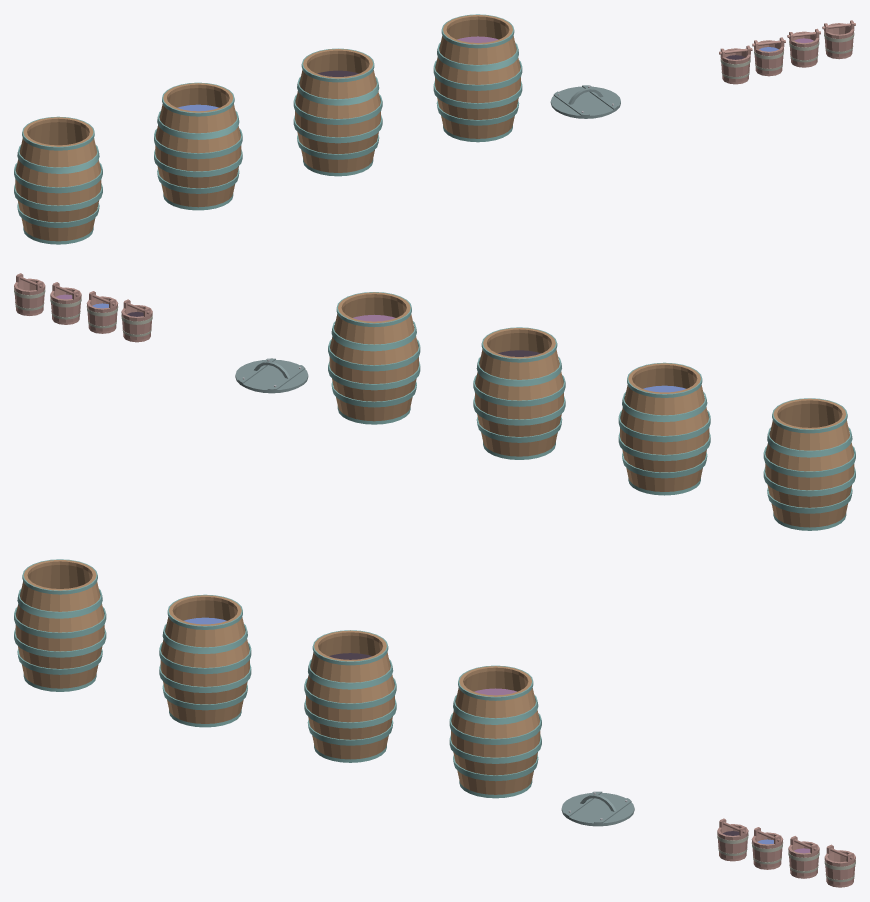
Rendered from Blacksmith.gltf.
3 views of the same model, one above another, from view 1: azimuth 30°, elevation 25°; view 2: azimuth 150°, elevation 25°; view 3: azimuth 330°, elevation 25° (orthographic). The views are drawn at different scales.
Visible parts, largest first — view 1: Barrel1, Barrel2, Barrel3, Barrel4, Barrel_Lid1, Bucket4, Bucket3, Bucket2, Bucket1; view 2: Barrel1, Barrel3, Barrel2, Barrel4, Barrel_Lid1, Bucket4, Bucket1, Bucket3, Bucket2; view 3: Barrel1, Barrel2, Barrel3, Barrel4, Barrel_Lid1, Bucket4, Bucket1, Bucket3, Bucket2.
Boxes of the visible parts, x1=… form: Barrel1: x1=14, y1=116, x2=102, y2=244; Barrel2: x1=293, y1=48, x2=382, y2=176; Barrel3: x1=433, y1=14, x2=522, y2=142; Barrel4: x1=154, y1=82, x2=242, y2=210; Barrel_Lid1: x1=550, y1=85, x2=620, y2=118; Bucket4: x1=822, y1=20, x2=855, y2=59; Bucket3: x1=719, y1=45, x2=752, y2=84; Bucket2: x1=752, y1=37, x2=785, y2=76; Bucket1: x1=787, y1=28, x2=820, y2=67; Barrel1: x1=763, y1=398, x2=855, y2=530; Barrel3: x1=328, y1=292, x2=420, y2=424; Barrel2: x1=473, y1=327, x2=565, y2=459; Barrel4: x1=618, y1=362, x2=710, y2=495; Barrel_Lid1: x1=235, y1=358, x2=308, y2=393; Bucket4: x1=14, y1=273, x2=45, y2=315; Bucket1: x1=50, y1=282, x2=81, y2=324; Bucket3: x1=121, y1=299, x2=152, y2=342; Bucket2: x1=86, y1=291, x2=118, y2=333; Barrel1: x1=14, y1=559, x2=106, y2=691; Barrel2: x1=304, y1=630, x2=396, y2=762; Barrel3: x1=449, y1=665, x2=541, y2=798; Barrel4: x1=159, y1=594, x2=251, y2=727; Barrel_Lid1: x1=561, y1=791, x2=634, y2=826; Bucket4: x1=824, y1=844, x2=855, y2=887; Bucket1: x1=788, y1=836, x2=819, y2=878; Bucket3: x1=717, y1=818, x2=748, y2=861; Bucket2: x1=751, y1=827, x2=783, y2=869.
Bounding box in the file's own units: 7.81 × 0.89 × 0.734.
